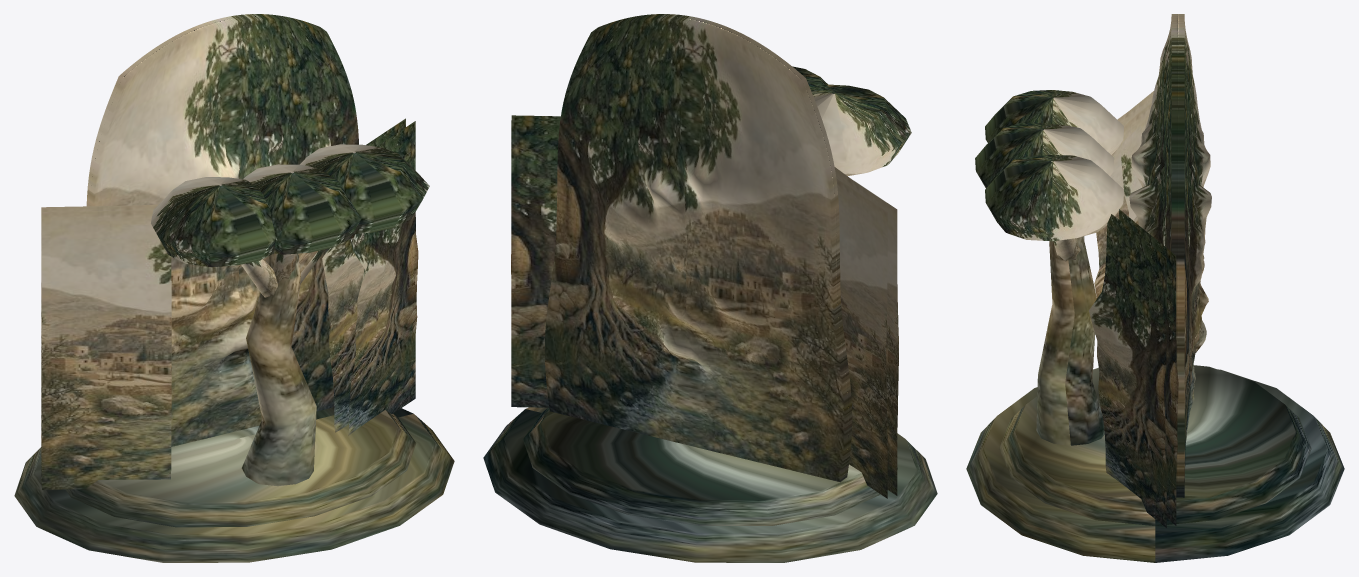
Rendered from psalms-1-1.glb.
The picture shows the model from 3 angles, left to right: view 1: azimuth 30°, elevation 25°; view 2: azimuth 150°, elevation 25°; view 3: azimuth 270°, elevation 25°; orthographic projection. The views are drawn at different scales.
Parts seen in each view (by area): view 1: PaintingSculptureMonument; view 2: PaintingSculptureMonument; view 3: PaintingSculptureMonument.
Boxes of the visible parts, x1,y1,x2,y2 form: PaintingSculptureMonument: (14,14,454,562); PaintingSculptureMonument: (483,14,937,562); PaintingSculptureMonument: (966,14,1344,562).
Size of the model in its own units: 2.76 by 2.99 by 2.35.
1 material, 1 textured.
